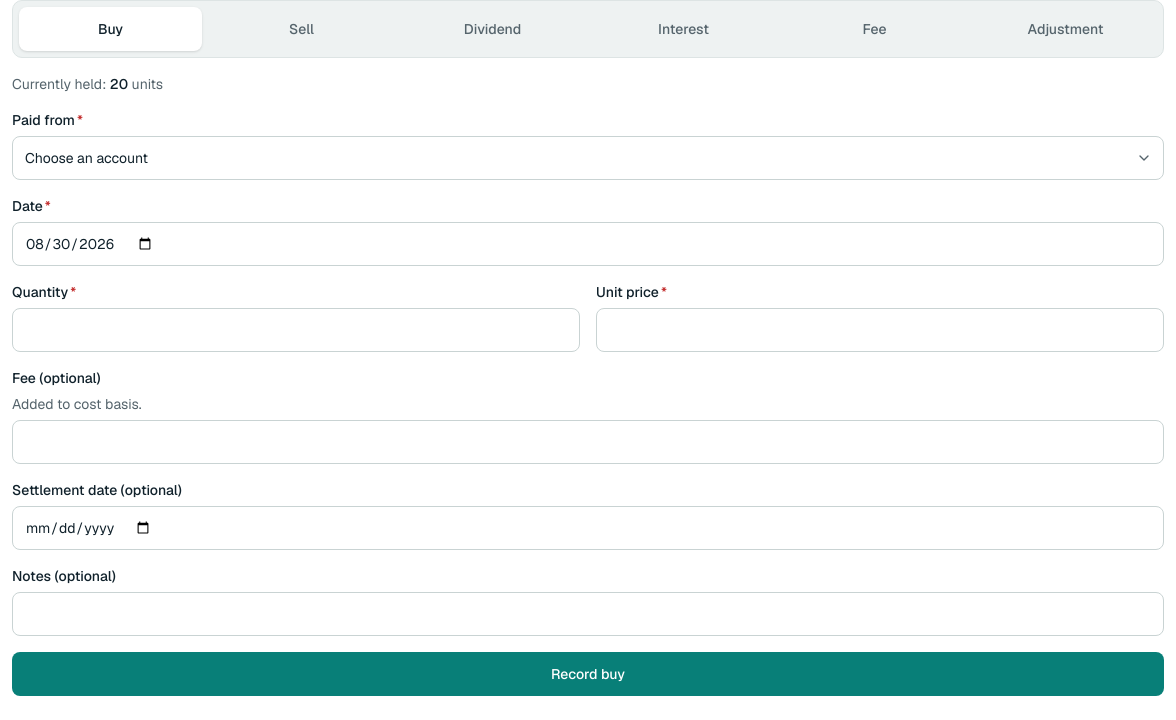
ActivityComposer › switches to dividend, requiring an income category and dropping quantity/price fields
Click the radio button labelled "Dividend" at (492, 29), box x1=401 y1=7 x2=584 y2=51
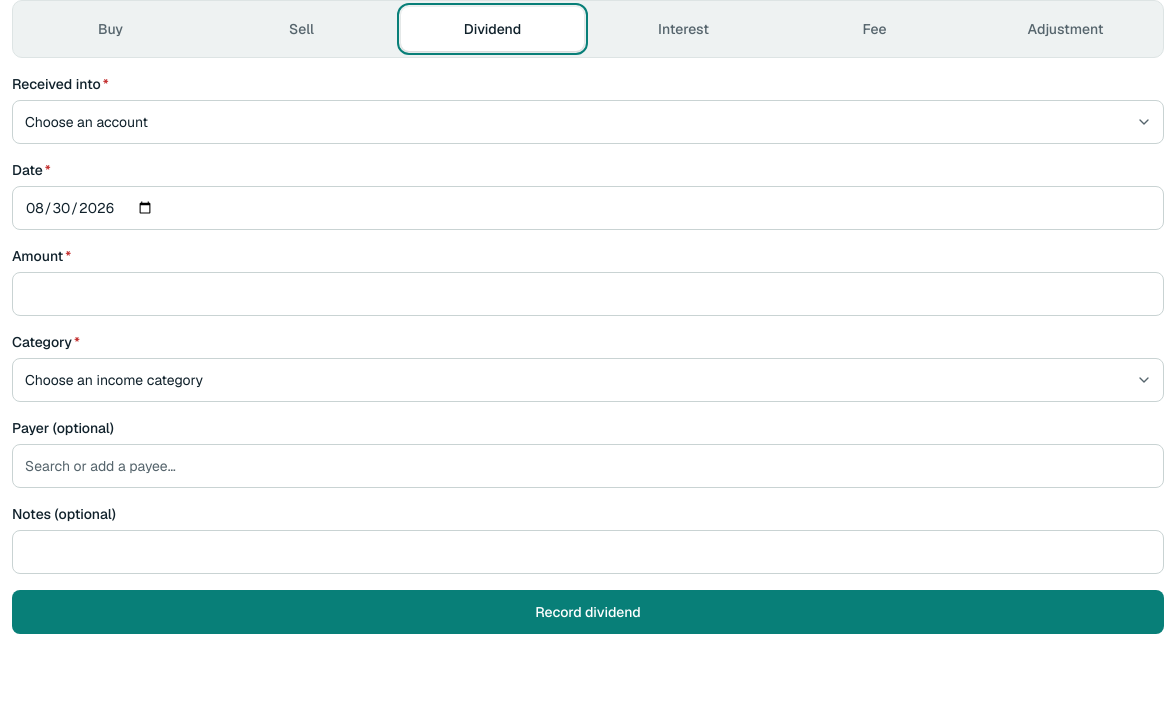
Expected: the dropdown labelled "Category" is shown, x1=12 y1=358 x2=1164 y2=402
Expected: the dropdown labelled "Received into" is shown, x1=12 y1=100 x2=1164 y2=144
Expected: the label labelled "Quantity" is gone
